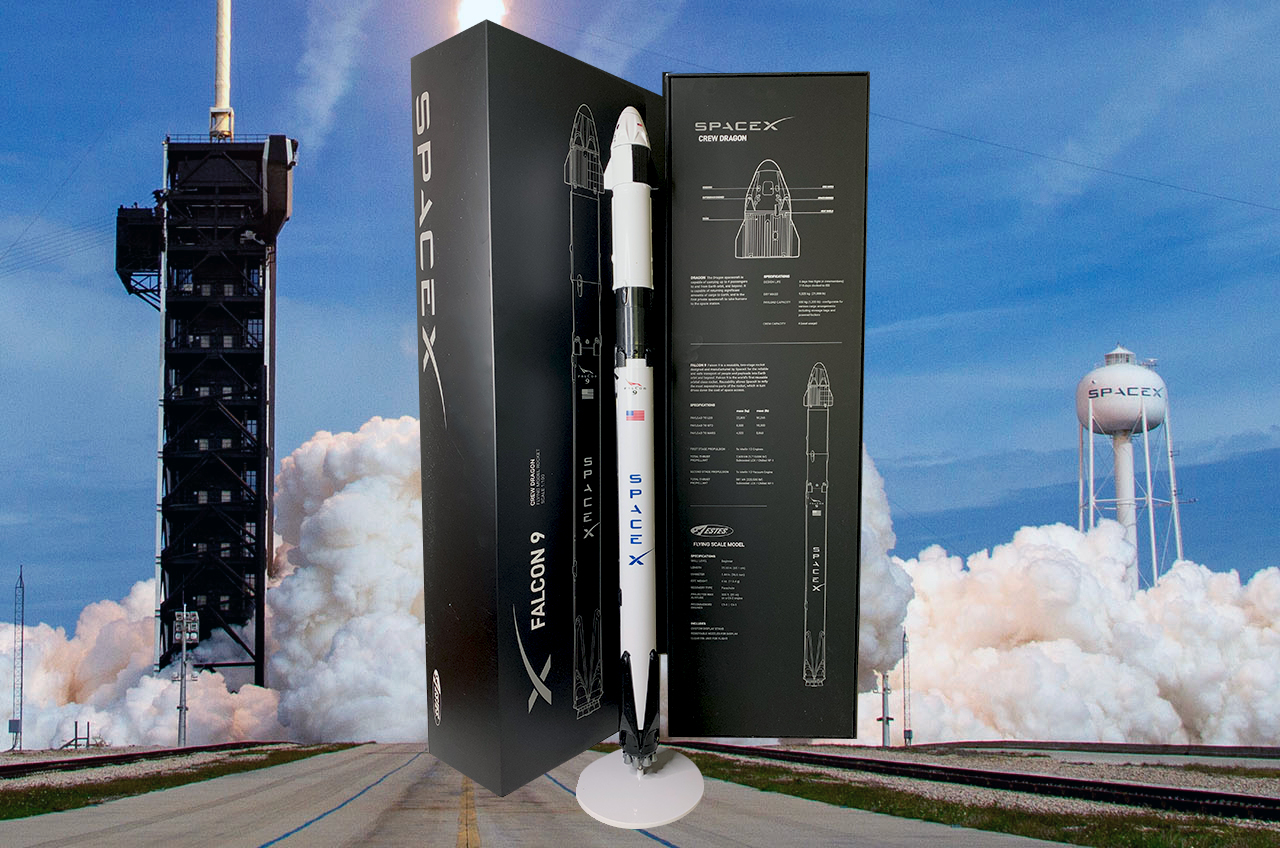falcon: (566, 92, 681, 774)
